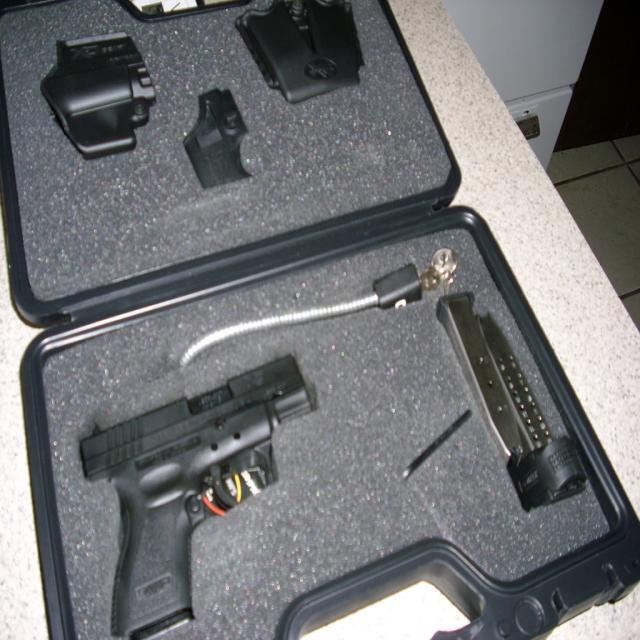Gun: (81, 355, 311, 635)
